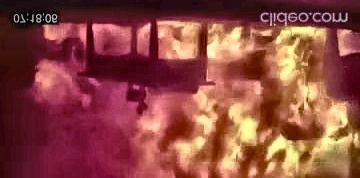fire: (30, 33, 360, 178)
